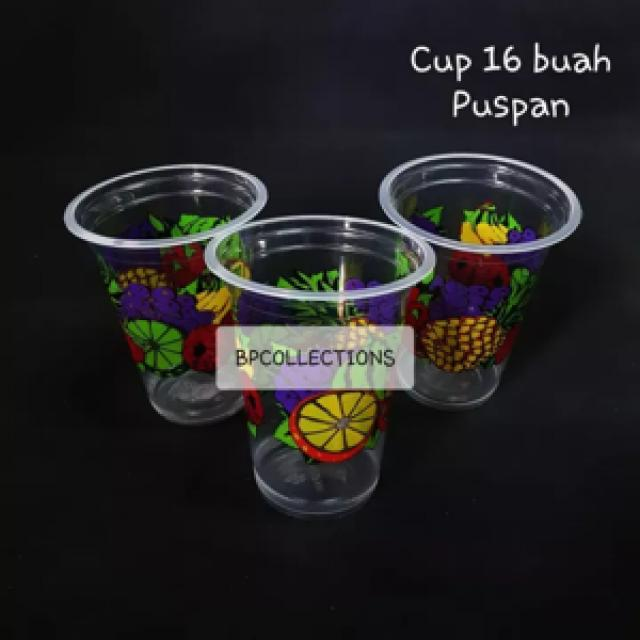plastic cup: (203, 213, 442, 529), (371, 147, 589, 418), (58, 158, 271, 431)
